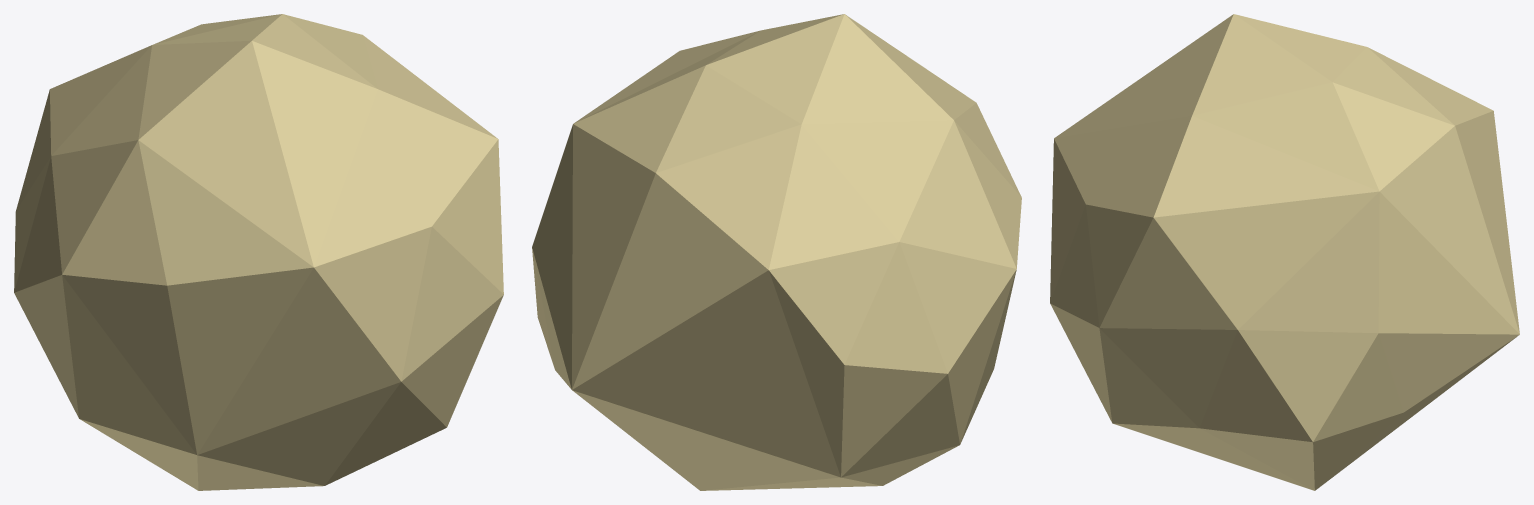
Rendered from EA03_Items_House_Apple_01b.glb.
The picture shows the model from 3 angles, left to right: view 1: azimuth 30°, elevation 25°; view 2: azimuth 150°, elevation 25°; view 3: azimuth 270°, elevation 25°; orthographic projection. The views are drawn at different scales.
Visible parts, largest first — view 1: EA03_Items_House_Apple_01b; view 2: EA03_Items_House_Apple_01b; view 3: EA03_Items_House_Apple_01b.
Part boxes in pixels (x1,y1,x2,y2): EA03_Items_House_Apple_01b: (14, 14, 503, 490); EA03_Items_House_Apple_01b: (532, 14, 1021, 490); EA03_Items_House_Apple_01b: (1050, 14, 1519, 490).
Size of the model in its own units: 0.1737 by 0.1742 by 0.1718.
1 material, 1 textured.
